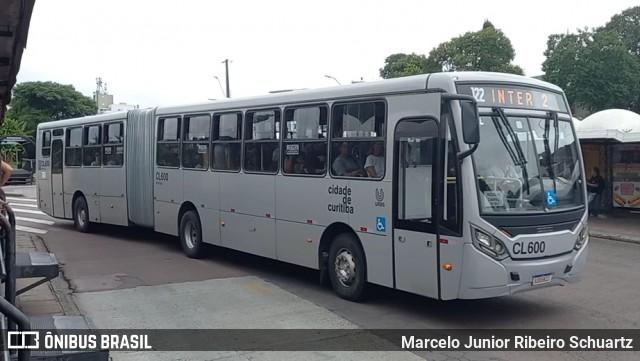INTER2: (487, 84, 557, 112)
